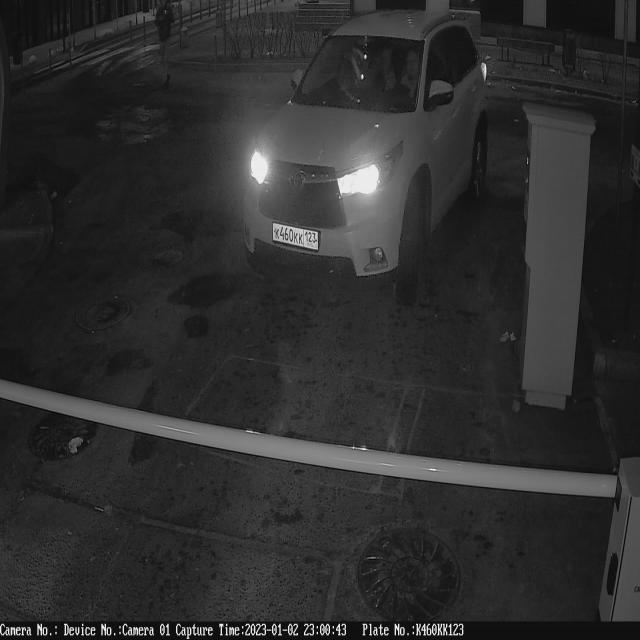car-plate-numbers: (271, 218, 322, 255)
